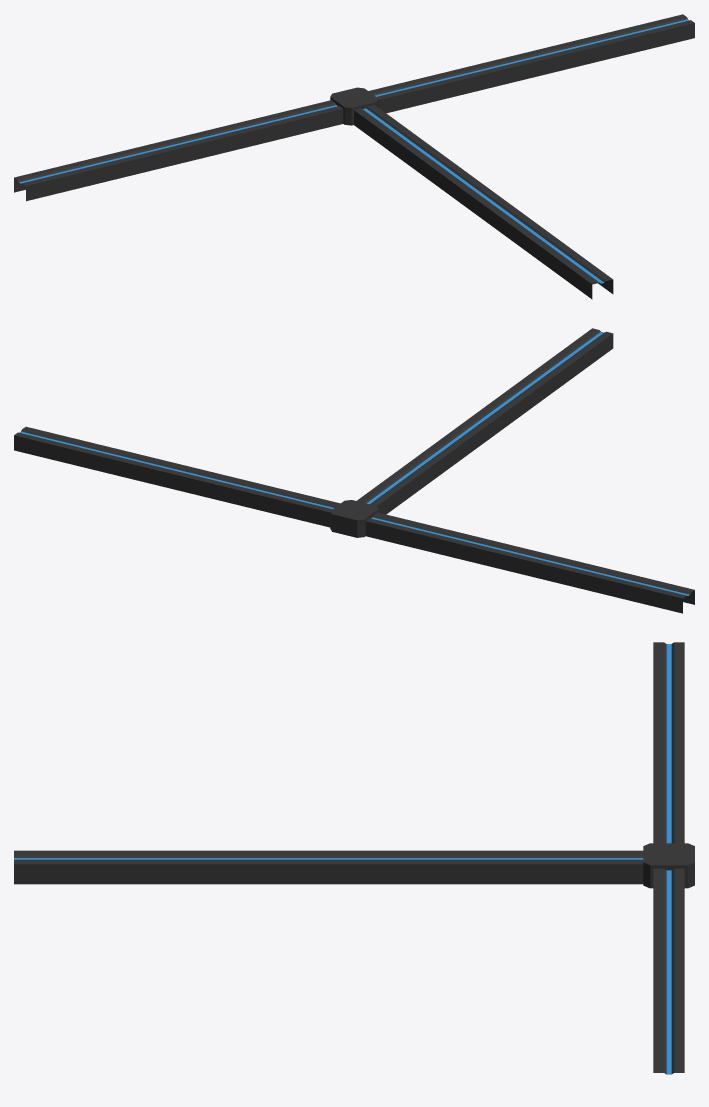
The picture shows the model from 3 angles, top to bottom: view 1: azimuth 30°, elevation 25°; view 2: azimuth 150°, elevation 25°; view 3: azimuth 270°, elevation 25°; orthographic projection. The views are drawn at different scales.
Parts seen in each view (by area): view 1: 0111; view 2: 0111; view 3: 0111.
Boxes of the visible parts, <box> form: 0111: <box>14,14,694,299</box>; 0111: <box>14,328,694,613</box>; 0111: <box>14,642,694,1074</box>.
Size of the model in its own units: 2 by 0.0503 by 1.34.
